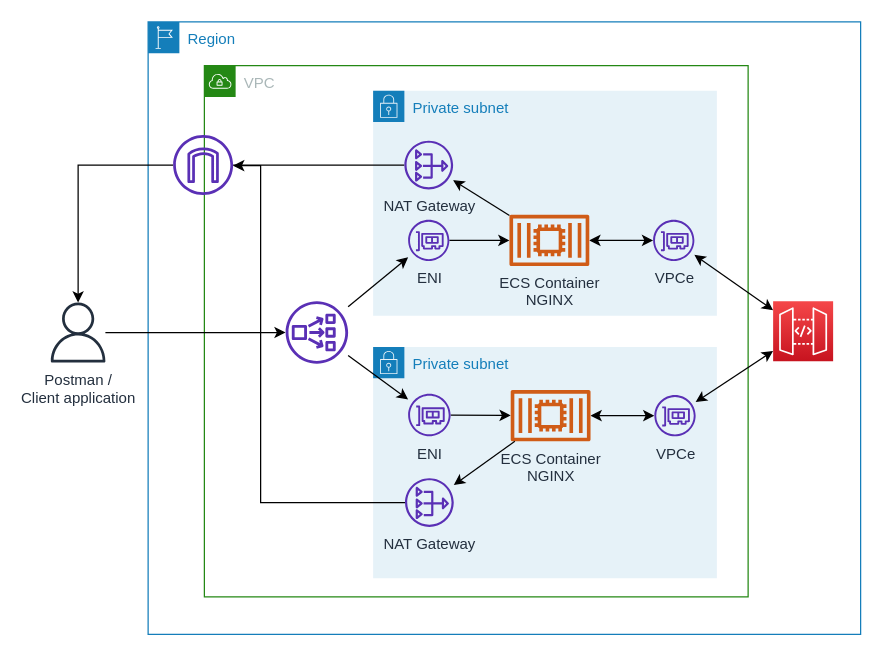
This 883x656 diagram has some shape labels left out. The shapes that lost their labels are listed below. From the top down, each one's centre as x and y in pixels, then its label:
the point at 202,164: Internet Gateway
the point at 316,332: Network Load Balancer
the point at 802,330: Amazon API Gateway
